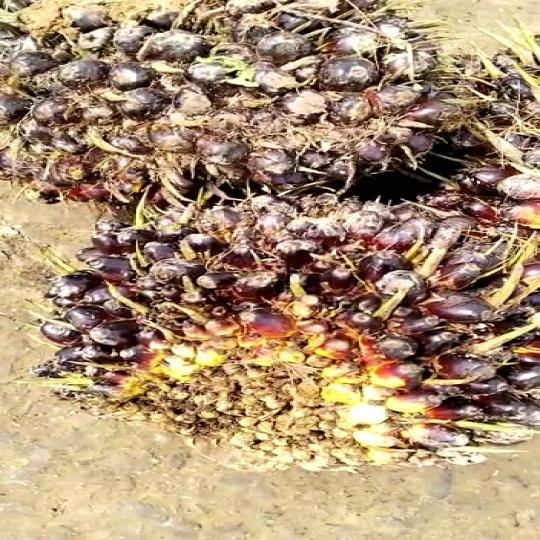mentah: (75, 203, 540, 471), (0, 0, 436, 200)
